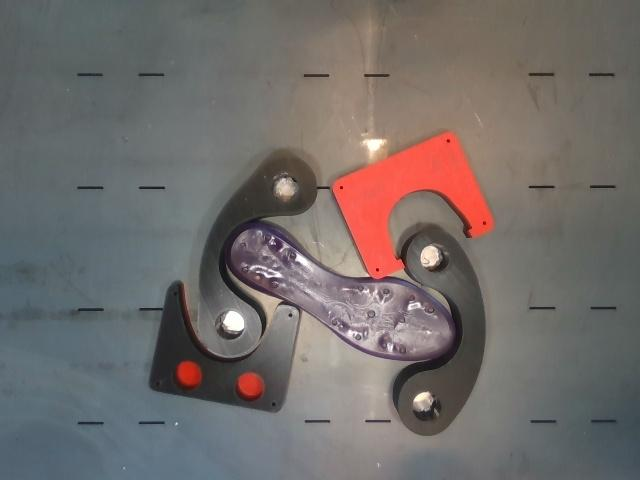shoes: (224, 223, 455, 361)
